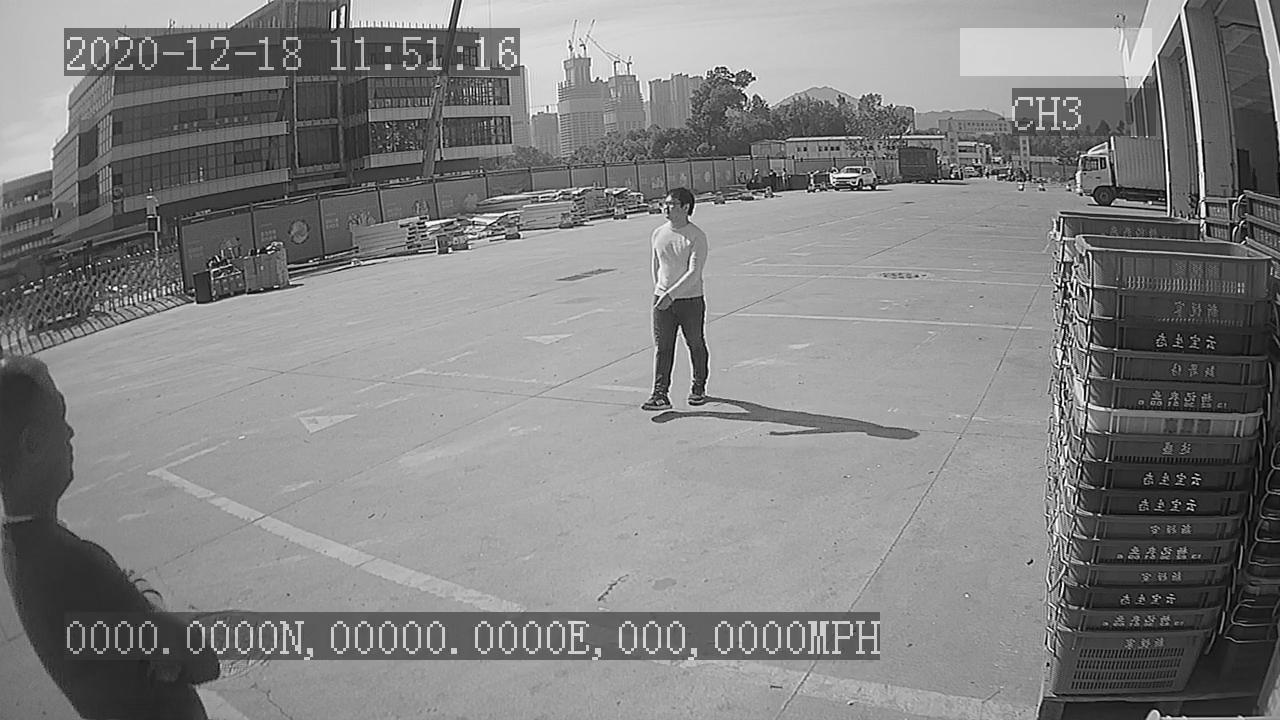person: (636, 185, 715, 420)
